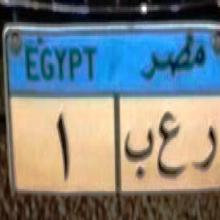1: (54, 107, 74, 185)
ain: (156, 105, 186, 189)
baa: (124, 120, 154, 182)
raa: (190, 114, 218, 183)
